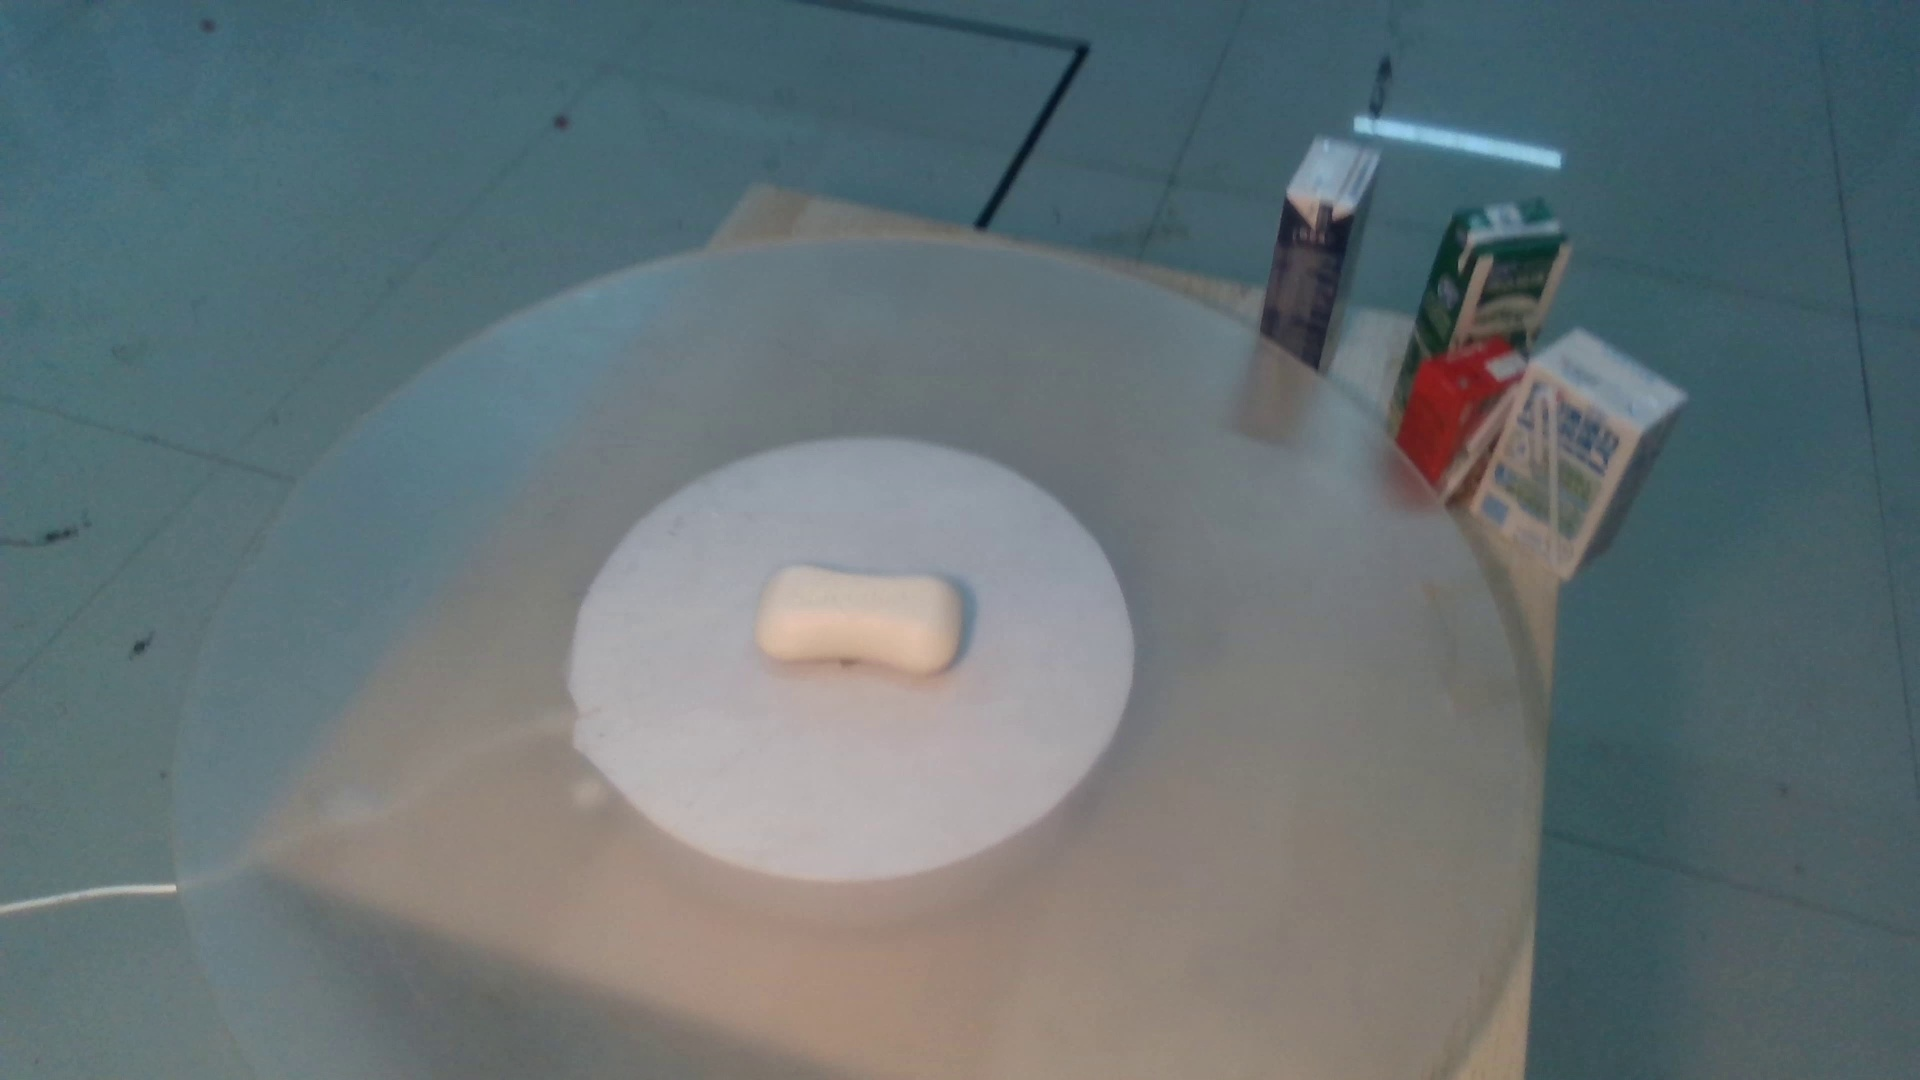CA003_1: (735, 493, 986, 688)
